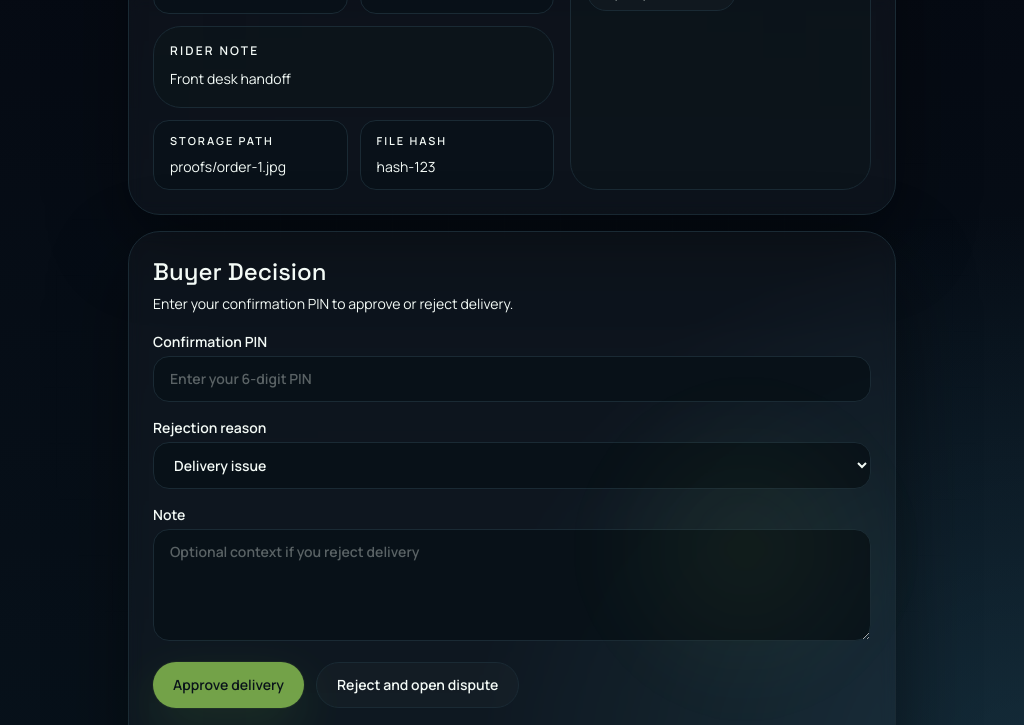
DeliveryConfirmationPage › rejects delivery and surfaces the dispute result
(page scrolled)
Step 1. Type "123456" into the password field labelled "Confirmation PIN" → [512, 379], box top-left (153, 356), bottom-right (871, 402)
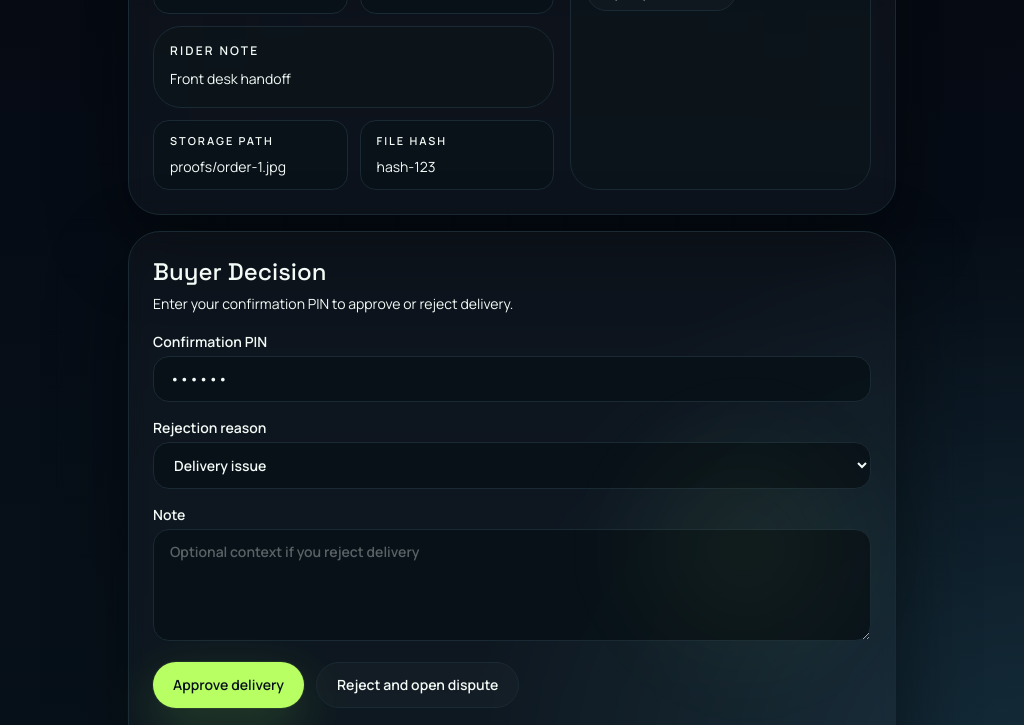
Step 2. Click the button "Reject and open dispute" → [418, 685], box top-left (316, 662), bottom-right (520, 708)
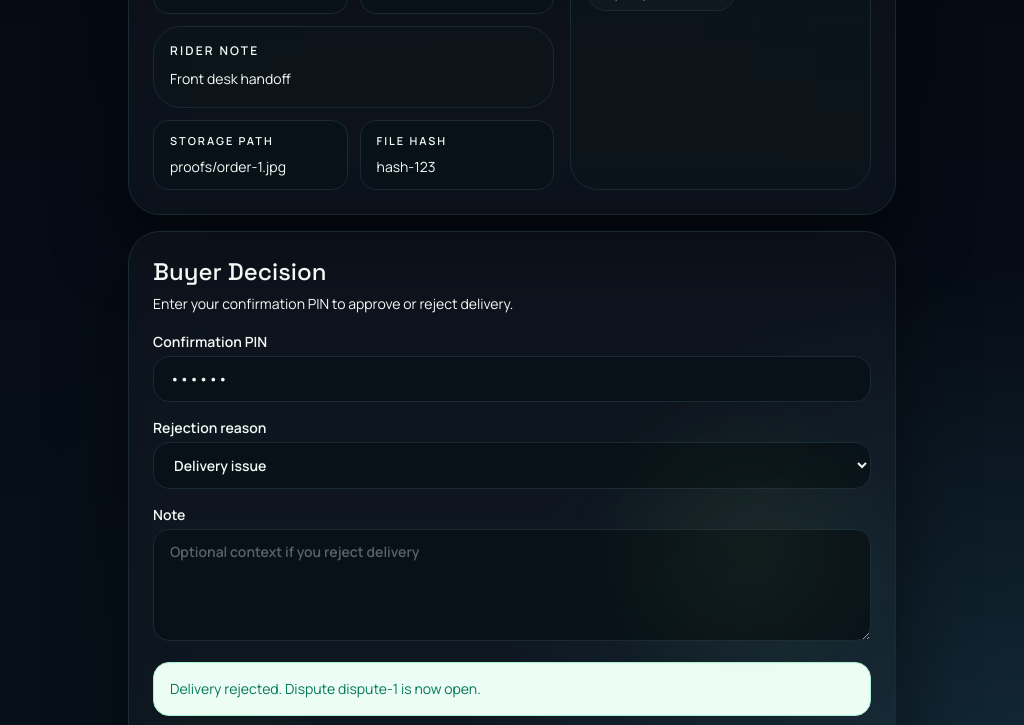
Expected: the text "Delivery rejected. Dispute dispute-1 is now open." is shown, top-left (153, 662), bottom-right (871, 716)
